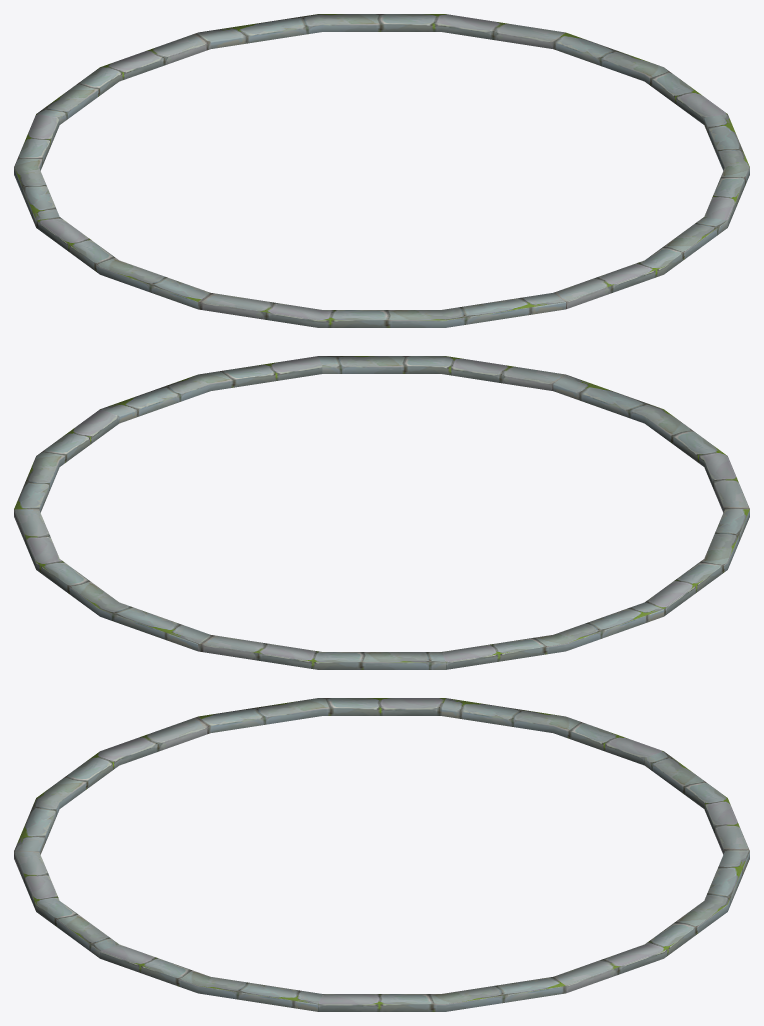
The model's file is Map_06_brick16.FBX.
3 renders of one model, top to bottom at view 1: azimuth 30°, elevation 25°; view 2: azimuth 150°, elevation 25°; view 3: azimuth 270°, elevation 25°, orthographic.
Visible parts, largest first — view 1: Map_06_brick16; view 2: Map_06_brick16; view 3: Map_06_brick16.
Part boxes in pixels (bbox=[...]): Map_06_brick16: bbox=[14, 14, 749, 327]; Map_06_brick16: bbox=[14, 356, 749, 669]; Map_06_brick16: bbox=[14, 698, 749, 1011].
Size of the model in its own units: 1476 by 1499 by 16.94.
